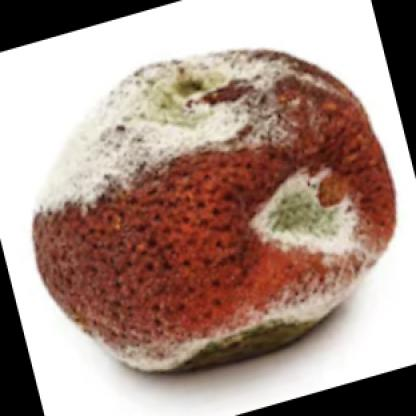rotten_orange: (24, 40, 402, 366)
